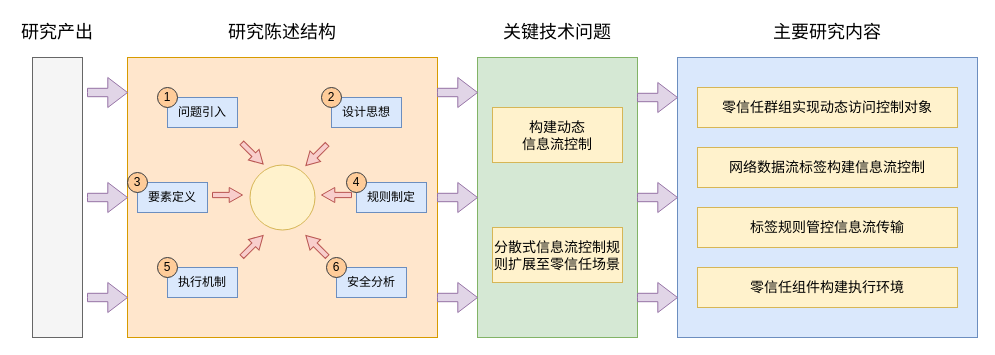
Image size: 995x355. Some labels were removed from this diagram. The shapes that lost their labels are listed below. From the top down, each one's centre as x and y in pixels, then its label:
At point 57,197: "基于零信任网络的分散式信息流控制模型".
At point 282,197: "模型 构建".
